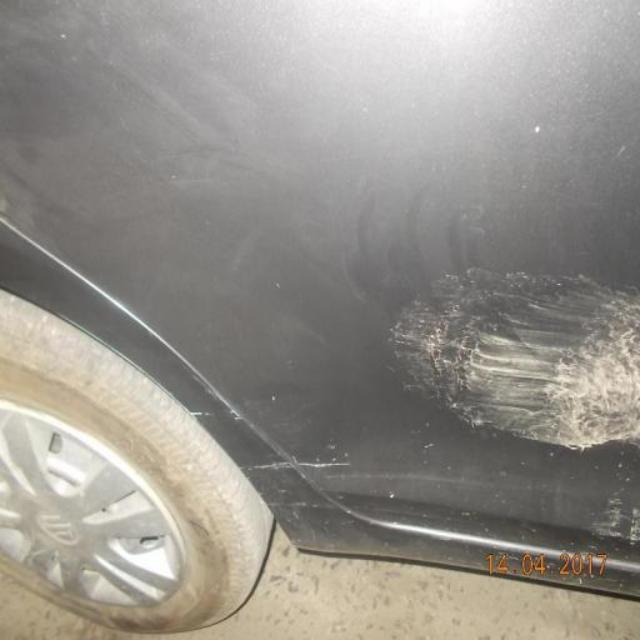rub: (390, 261, 639, 450), (601, 494, 638, 555)
scratch: (245, 447, 354, 477), (197, 387, 280, 426)
